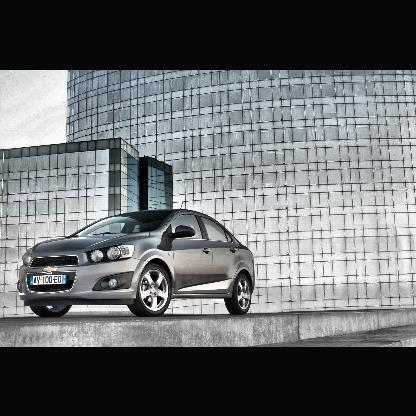Chevrolet Sonic Sedan 2012: (20, 200, 255, 316)
